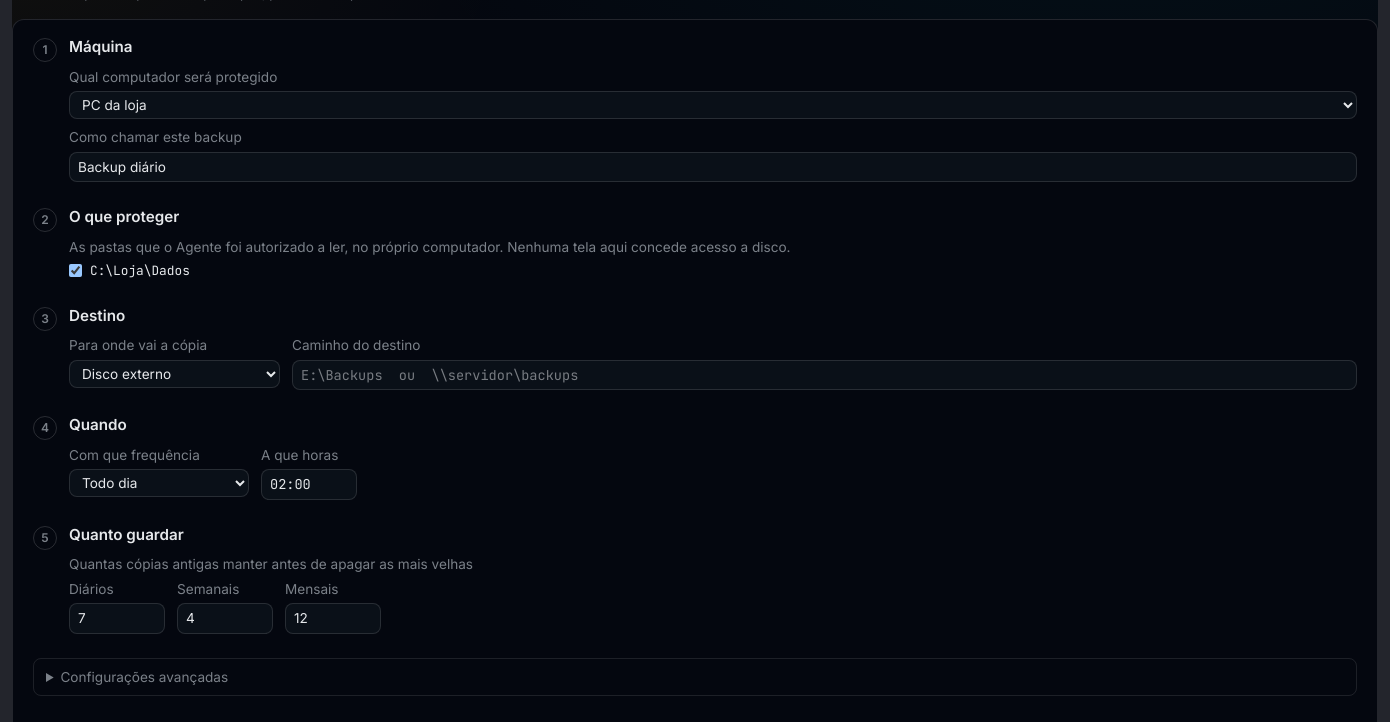
assistente de configuração › sem horário, o resumo não promete backup automático
This screenshot has width=1390, height=722.
Expected: the text "C:\\Loja\\Dados" is shown, [90, 261, 190, 280]
Step 1. Select "Só quando eu mandar" in the dropdown labelled "frequência" → [159, 483], box [69, 469, 249, 497]
(page scrolled)
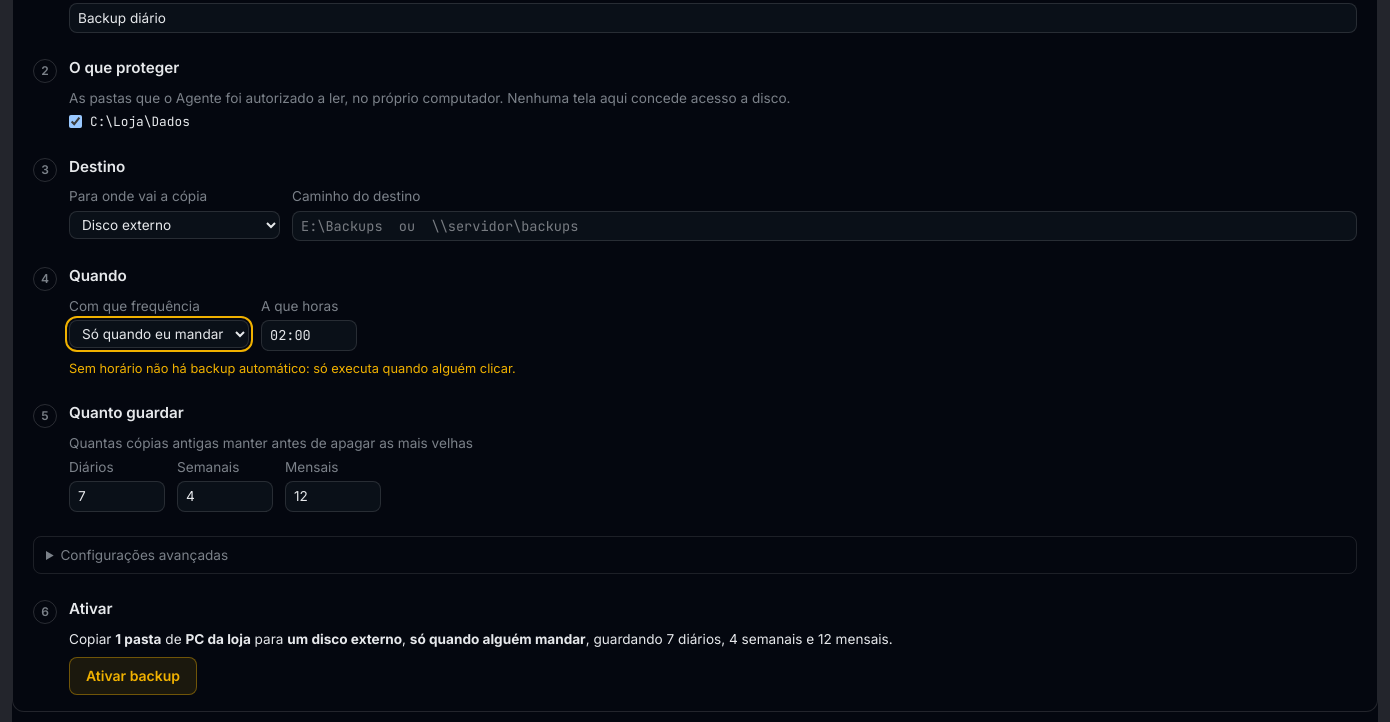
Result: the text "só executa quando alguém clicar" is shown at [69, 361, 516, 376]
Result: the message shows "só quando alguém mandar" at [410, 631, 586, 647]
